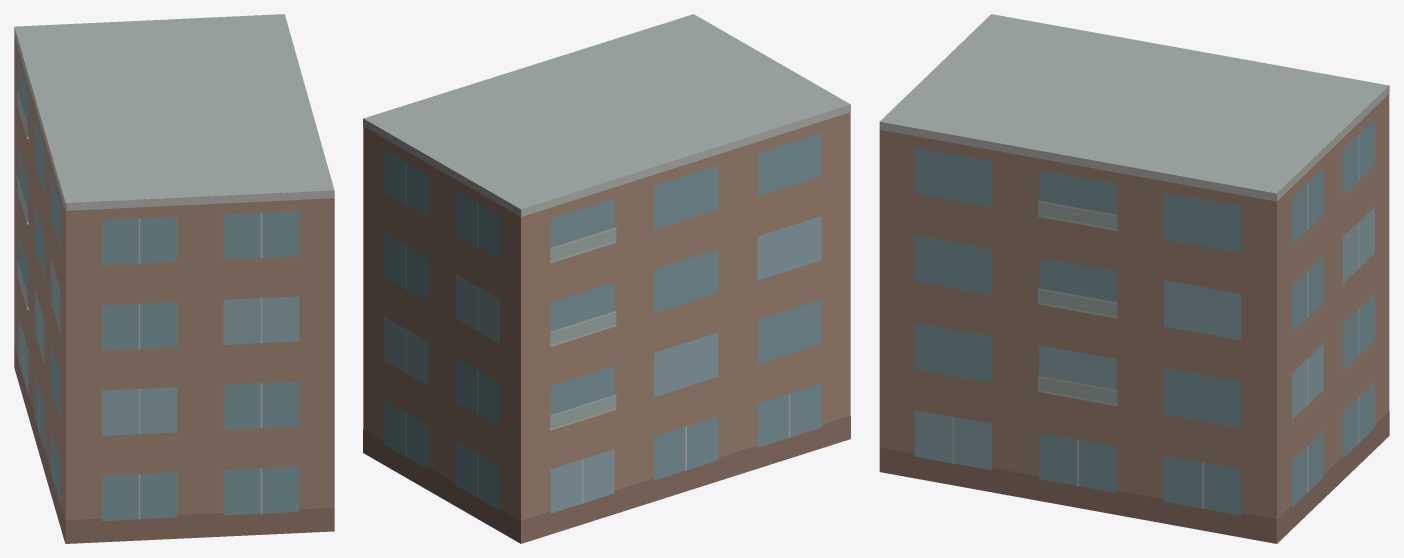
Rendered from survey-upis-32520798.glb.
3 views of the same model, side by side, from view 1: azimuth 30°, elevation 25°; view 2: azimuth 150°, elevation 25°; view 3: azimuth 270°, elevation 25° (orthographic). The views are drawn at different scales.
Visible parts, largest first — view 1: survey-upis-32520798.tmp; view 2: survey-upis-32520798.tmp; view 3: survey-upis-32520798.tmp.
Part boxes in pixels (bbox=[...]): survey-upis-32520798.tmp: bbox=[14, 14, 334, 543]; survey-upis-32520798.tmp: bbox=[363, 14, 850, 543]; survey-upis-32520798.tmp: bbox=[879, 14, 1389, 543].
Size of the model in its own units: 11.77 by 10.7 by 14.13.
